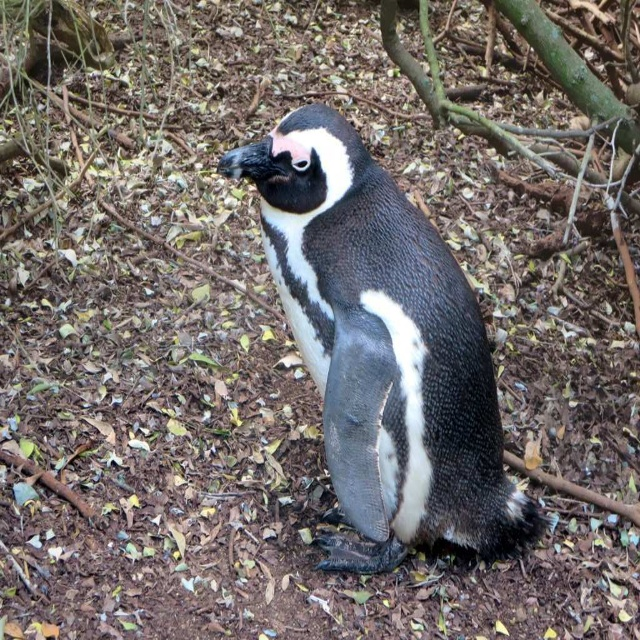Penguin: (208, 115, 544, 577)
